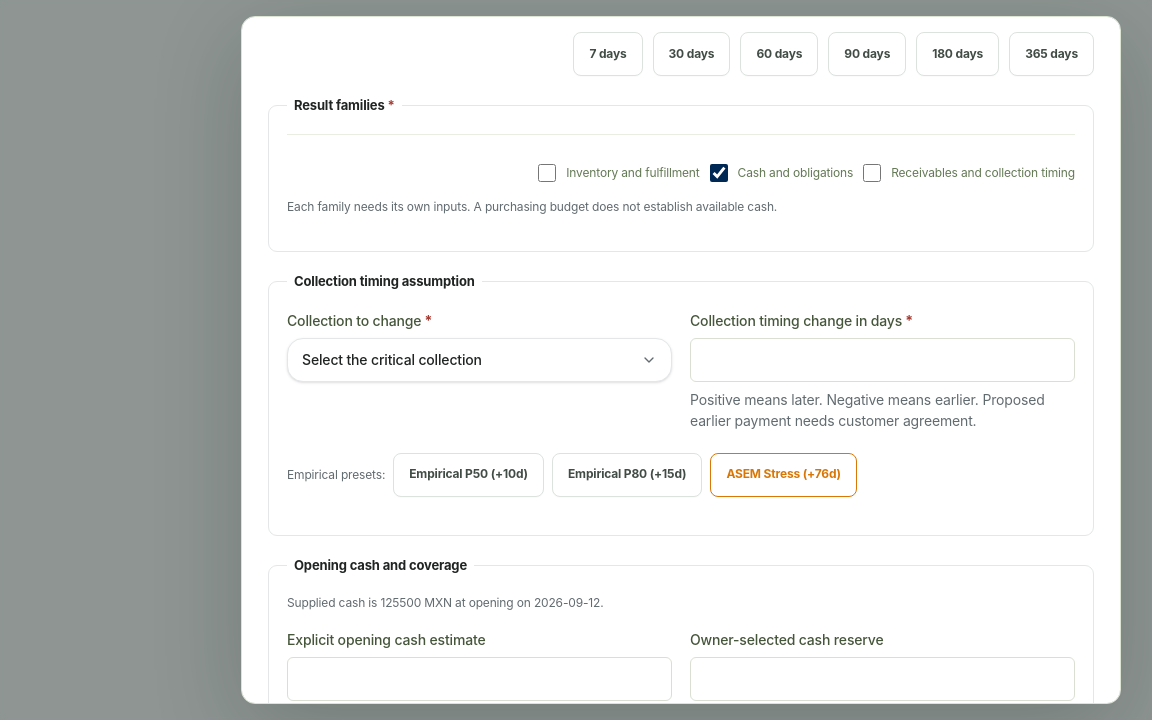
it: a customer without observed payments falls back to the portfolio preset
(page scrolled)
Replace the text in the dropdown named "Collection to change" with "inv-1024" at (480, 360), box [287,338,672,382]
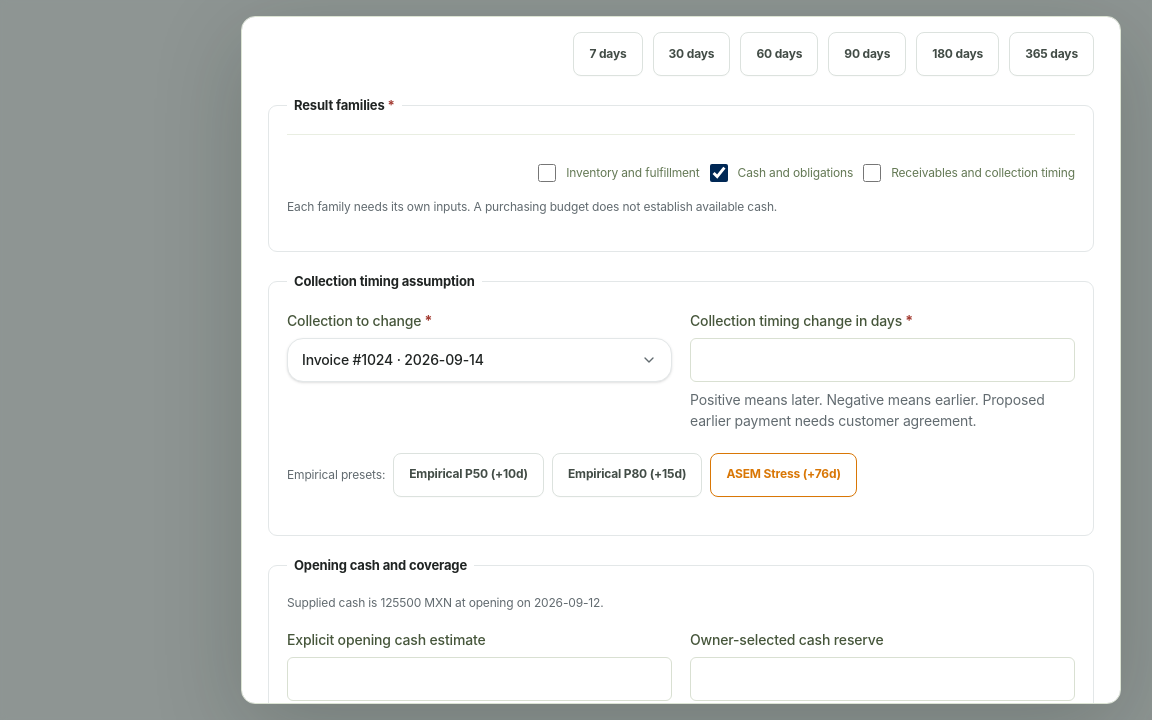
Click the button "Empirical P50 (+10d)" at (469, 475), box [393,453,544,497]
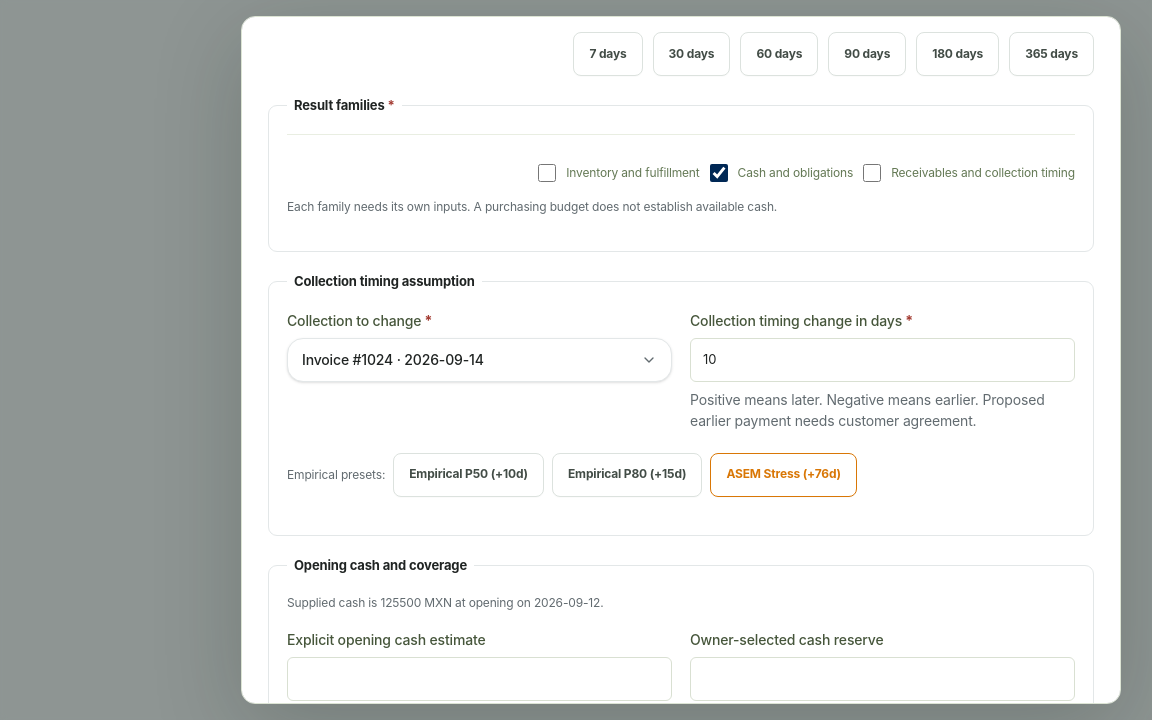
Check: the number field labelled "Collection timing change in days" holds "10", box [690,338,1075,382]
